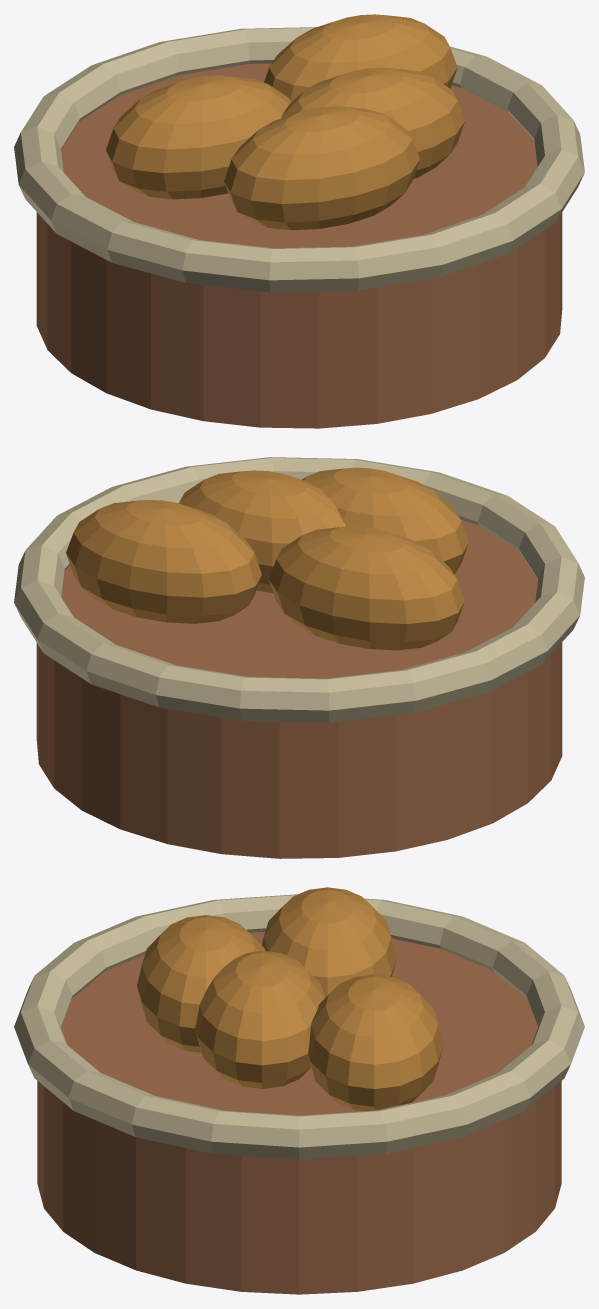
Rendered from serving-bowl.glb.
3 views of the same model, one above another, from view 1: azimuth 30°, elevation 25°; view 2: azimuth 150°, elevation 25°; view 3: azimuth 270°, elevation 25° (orthographic).
Parts seen in each view (by area): view 1: ServingBowl, ServingBowlRim, SweetPotato_3, SweetPotato_0, SweetPotato_2, SweetPotato_1; view 2: ServingBowl, ServingBowlRim, SweetPotato_0, SweetPotato_2, SweetPotato_1, SweetPotato_3; view 3: ServingBowl, ServingBowlRim, SweetPotato_2, SweetPotato_1, SweetPotato_0, SweetPotato_3.
Boxes of the visible parts, box(x1,y1,x2,y2) form: ServingBowl: box(36, 63, 562, 428); ServingBowlRim: box(14, 27, 584, 292); SweetPotato_3: box(224, 106, 419, 230); SweetPotato_0: box(106, 75, 290, 199); SweetPotato_2: box(264, 14, 457, 102); SweetPotato_1: box(281, 67, 464, 178); ServingBowl: box(36, 519, 562, 858); ServingBowlRim: box(14, 457, 584, 722); SweetPotato_0: box(269, 526, 464, 650); SweetPotato_2: box(66, 499, 261, 623); SweetPotato_1: box(179, 470, 345, 593); SweetPotato_3: box(302, 467, 468, 574); ServingBowl: box(37, 931, 561, 1294); ServingBowlRim: box(14, 894, 584, 1159); SweetPotato_2: box(308, 974, 443, 1111); SweetPotato_1: box(195, 950, 324, 1088); SweetPotato_0: box(261, 887, 396, 997); SweetPotato_3: box(137, 915, 265, 1052).
Bounding box in the file's own units: 0.61 × 0.2848 × 0.61.
